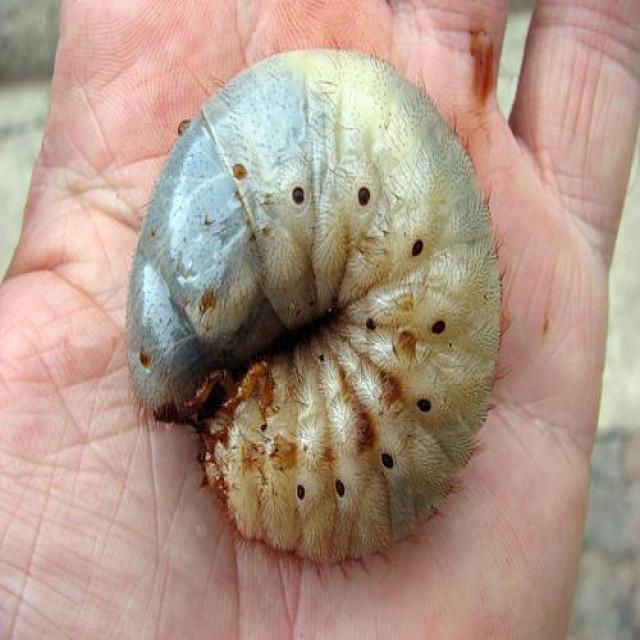Grub-Adult-: (105, 27, 506, 578)
